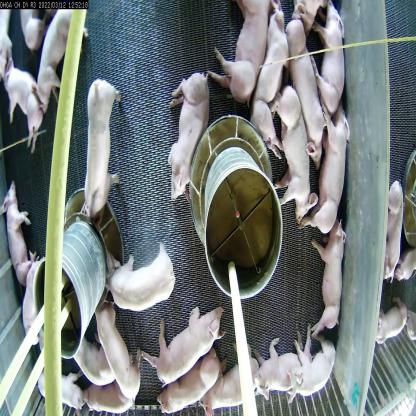Pig: (278, 11, 330, 165), (76, 67, 122, 222), (274, 93, 315, 233), (92, 297, 140, 411), (219, 2, 268, 112), (150, 304, 224, 376), (34, 10, 88, 106), (252, 14, 293, 139), (310, 216, 345, 348), (312, 0, 352, 109), (0, 59, 47, 150), (106, 259, 178, 317), (319, 104, 343, 252), (4, 180, 35, 286), (385, 165, 412, 282), (289, 340, 334, 410), (252, 334, 298, 402), (207, 358, 260, 416), (160, 359, 215, 412), (36, 364, 80, 416), (20, 250, 48, 330), (72, 324, 106, 389)
